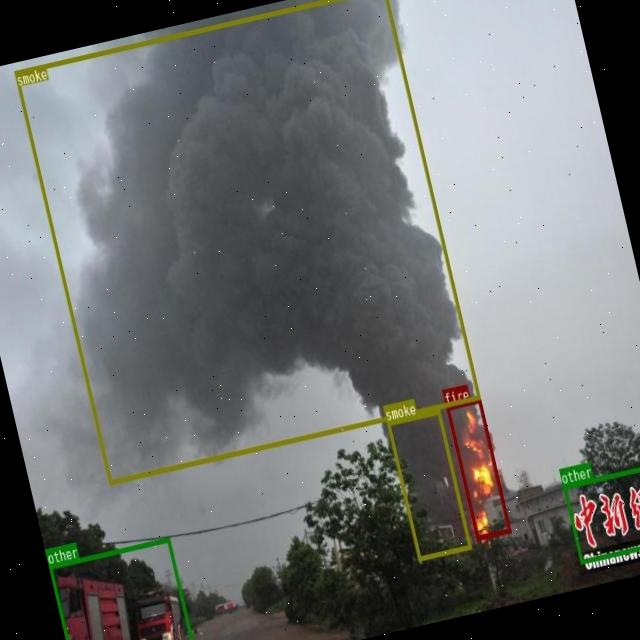fire: (446, 398, 510, 540)
smoke: (12, 0, 479, 484), (385, 408, 471, 560)
